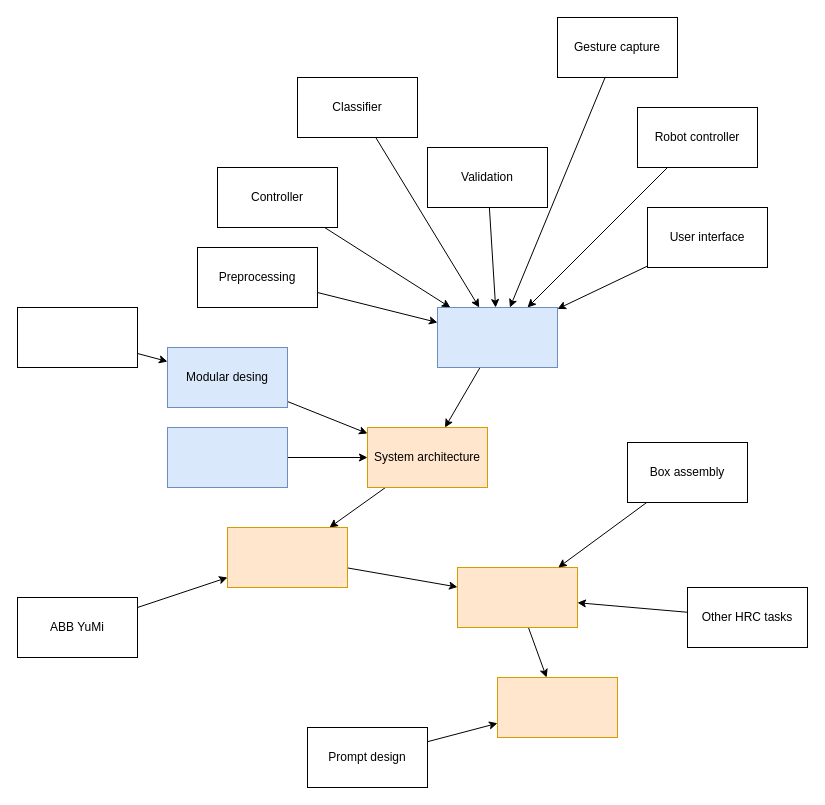
This 825x805 diagram has some shape labels left out. The centre of each missing label's shape, as x and y in pixels:
HRC task: pixel 517 597
MQTT: pixel 77 337
Ollama: pixel 227 457
Robot: pixel 287 557
VLM: pixel 557 707
Work cycle: pixel 497 337
